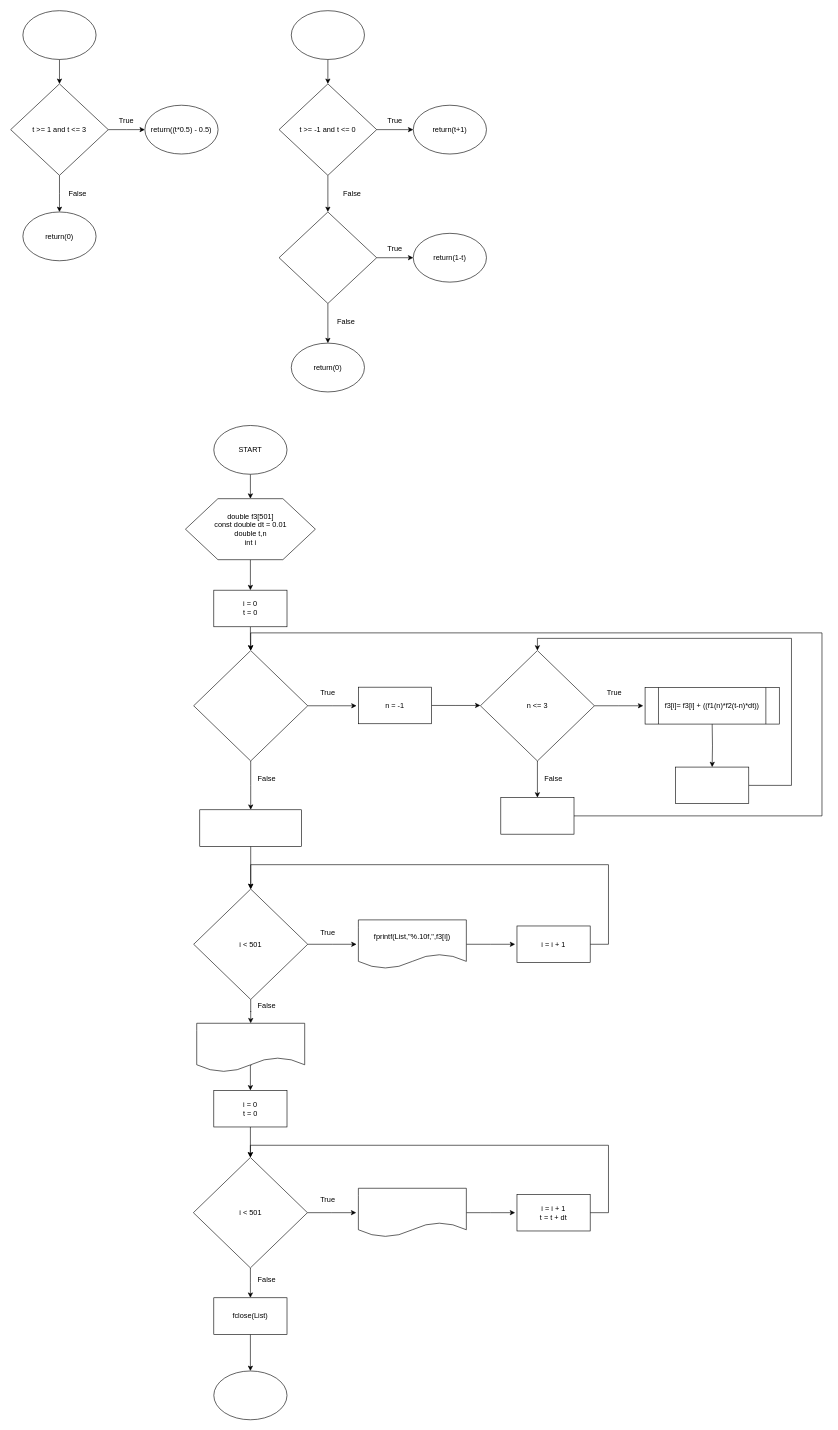
This 838x1430 diagram has some shape labels left out. Here are the shapes that lost their labels. From the top down, the centre of each, then its label:
(59,34): double f1 (double t)
(327,34): double f2 (double t)
(327,257): t <= 1 and t >= 0
(250,705): t <= 5
(712,785): n = n + dt i = i + 1
(250,827): List = fopen("data.csv","w+") i = 0
(537,815): t = t + dt
(250,1047): fprintf(List,"\n")
(412,1212): fprintf(List,"%f,",t)
(250,1395): END
